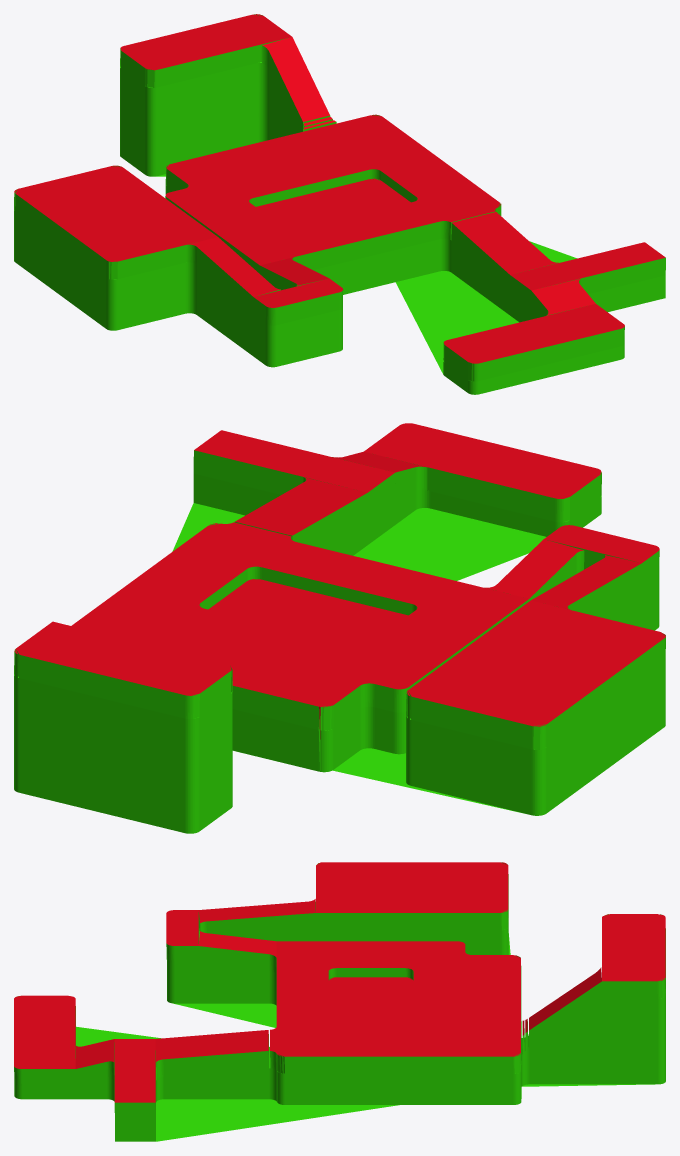
Rendered from CuevaB33.fbx.
3 renders of one model, top to bottom at view 1: azimuth 30°, elevation 25°; view 2: azimuth 150°, elevation 25°; view 3: azimuth 270°, elevation 25°, orthographic. The views are drawn at different scales.
Parts seen in each view (by area): view 1: Cube.004; view 2: Cube.004; view 3: Cube.004.
Boxes of the visible parts, left/top/right/bottom form: Cube.004: left=14, top=14, right=665, bottom=394; Cube.004: left=14, top=423, right=665, bottom=833; Cube.004: left=14, top=862, right=665, bottom=1141.
Bounding box in the file's own units: 21.25 × 27.49 × 4.8.
